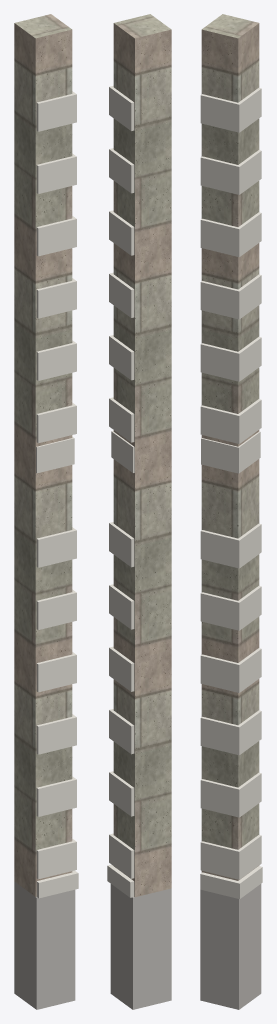
File: lib_corner.glb
3 views of the same model, side by side, from view 1: azimuth 30°, elevation 25°; view 2: azimuth 210°, elevation 25°; view 3: azimuth 330°, elevation 25° (orthographic).
Parts seen in each view (by area): view 1: lib_corner_stone, lib_corner_cornice, lib_corner_granite; view 2: lib_corner_stone, lib_corner_cornice, lib_corner_granite; view 3: lib_corner_stone, lib_corner_cornice, lib_corner_granite.
Part boxes in pixels (box(x1,y1,x2,y2)): lib_corner_stone: box(14, 14, 72, 896); lib_corner_cornice: box(36, 91, 78, 898); lib_corner_granite: box(14, 881, 75, 1009); lib_corner_stone: box(113, 14, 171, 897); lib_corner_cornice: box(107, 85, 134, 897); lib_corner_granite: box(110, 884, 171, 1009); lib_corner_stone: box(201, 14, 259, 880); lib_corner_cornice: box(200, 88, 262, 898); lib_corner_granite: box(200, 884, 261, 1009).
Bounding box in the file's own units: 0.41 × 9.35 × 0.41.
Materials: 3 (1 with a texture image).
